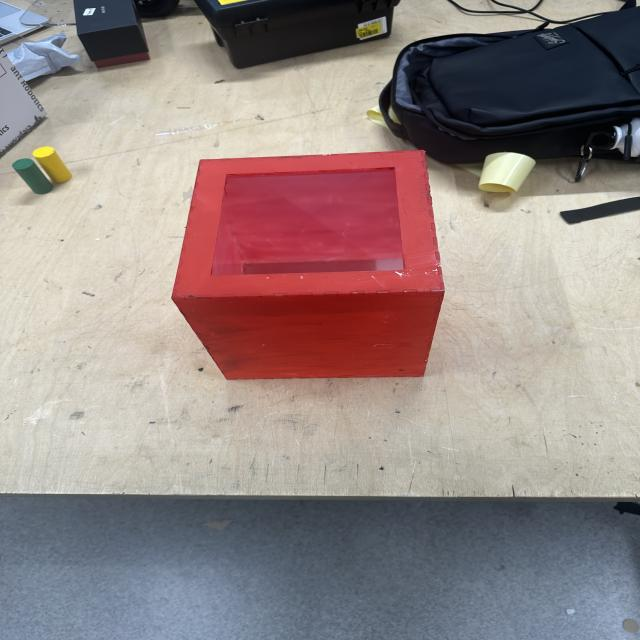red_bin: (168, 149, 446, 380)
